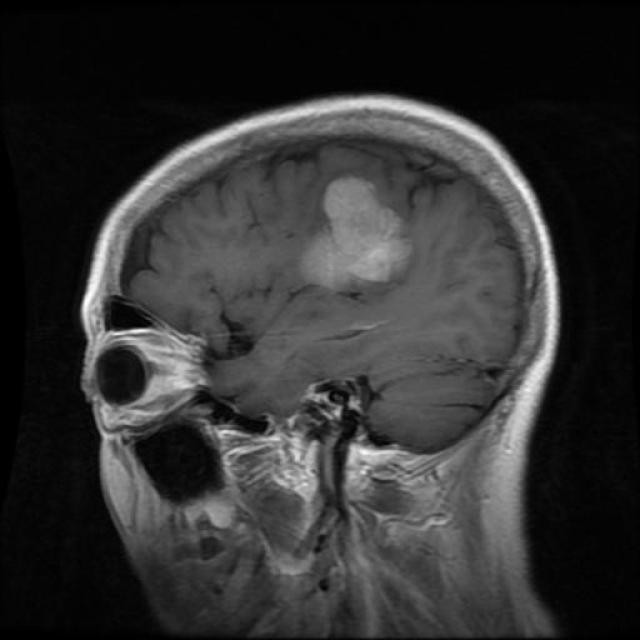meningioma: (302, 179, 409, 289)
